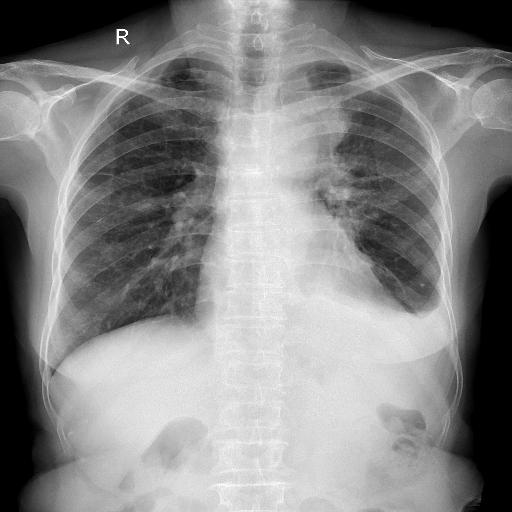Consolidation: (238, 46, 318, 136)
Lung Opacity: (250, 62, 316, 128)
Nodule-Mass: (246, 57, 316, 131)
Pleural effusion: (326, 264, 410, 314)
